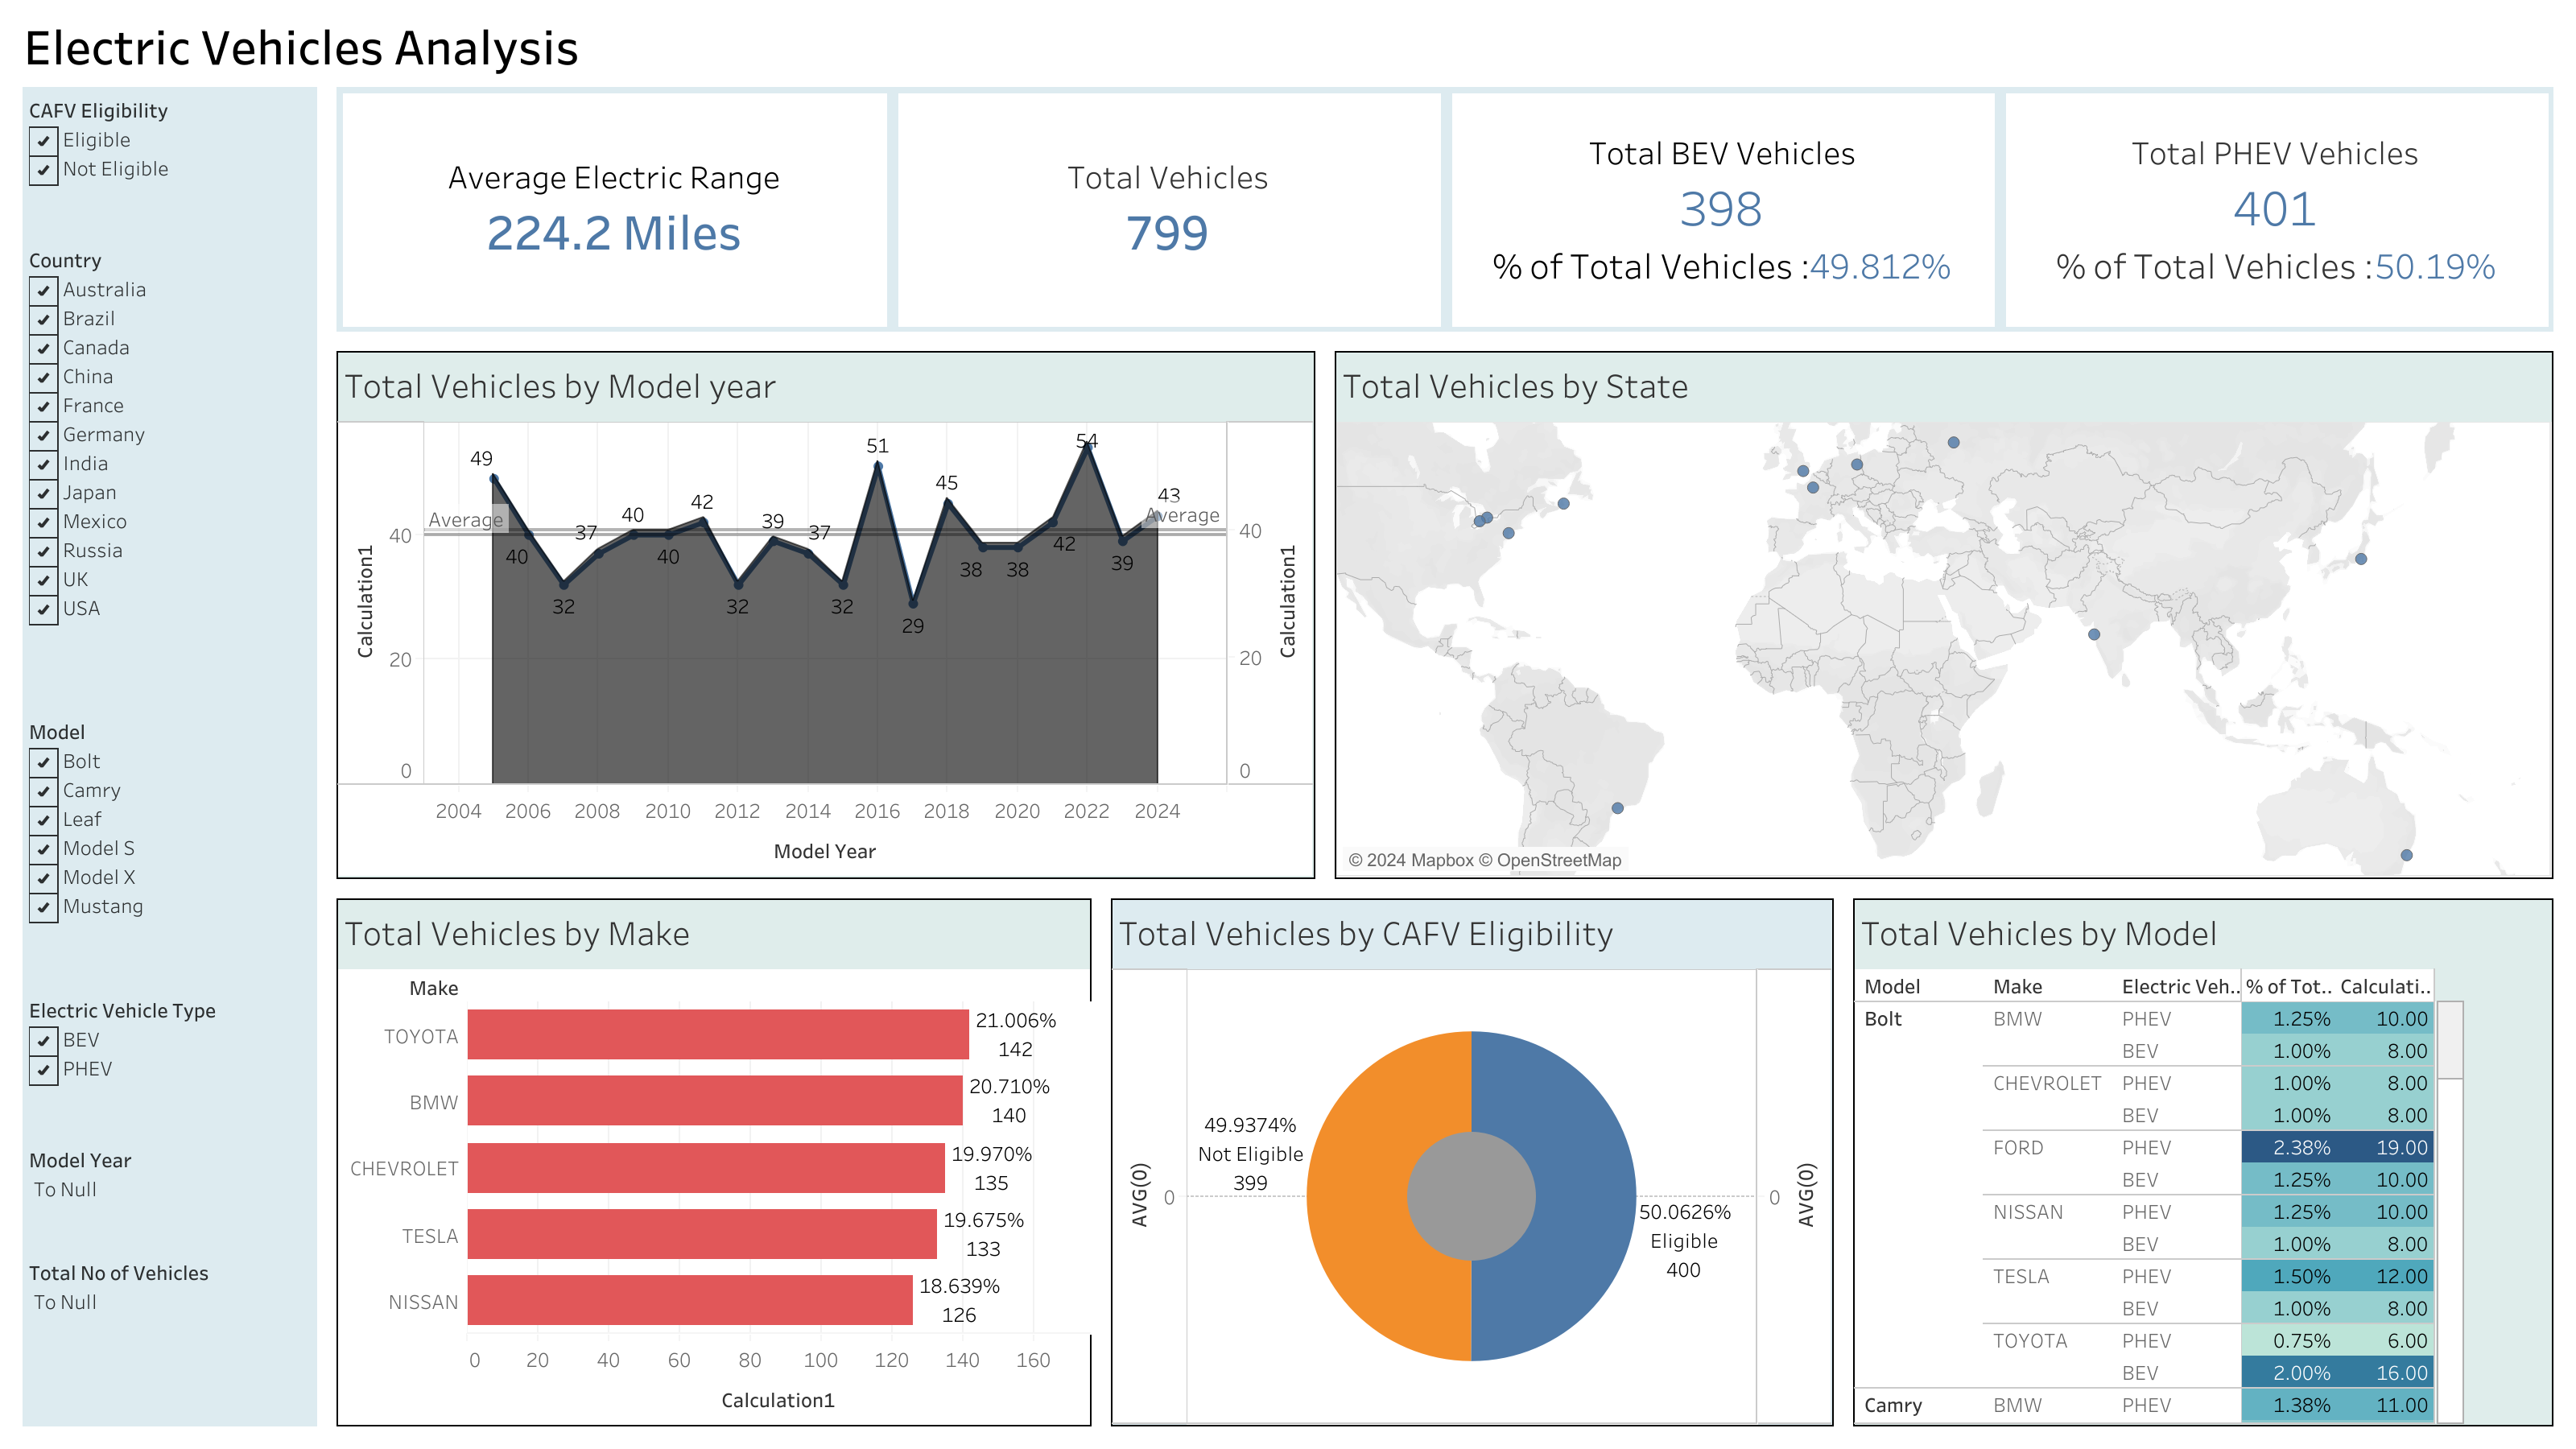

What the dashboard file says about the page in this screenshot:
{"tool":"tableau","page":{"name":"Dashboard 1","canvas":[1600,900],"ordinal":0},"visuals":[{"type":"title","box":[8,8,1584,40]},{"type":"filter","title":"Sheet 5","param":"[federated.185fgkx1a7k8gy130zgwh000ghmw].[none:CAFV Eligibility:nk]","box":[14,54,183,93]},{"type":"worksheet","title":"Sheet 2","mark":"Automatic","box":[209,54,345,152]},{"type":"worksheet","title":"Sheet 1","mark":"Automatic","box":[554,54,344,152]},{"type":"worksheet","title":"Sheet 3","mark":"Automatic","box":[898,54,344,152]},{"type":"worksheet","title":"Sheet 4","mark":"Automatic","box":[1242,54,344,152]},{"type":"filter","title":"Sheet 5","param":"[federated.185fgkx1a7k8gy130zgwh000ghmw].[none:Country:nk]","box":[14,147,183,293]},{"type":"worksheet","title":"Sheet 5","mark":"Line","rows":["Calculation_1055594298626049","Calculation_1055594298626049"],"cols":["Model Year"],"box":[203,212.2,620,339.9]},{"type":"worksheet","title":"Sheet 6","mark":"Multipolygon","box":[823,212.2,769,339.9]},{"type":"filter","title":"Sheet 5","param":"[federated.185fgkx1a7k8gy130zgwh000ghmw].[none:Model:nk]","box":[14,440,183,173]},{"type":"worksheet","title":"Sheet 7","mark":"Automatic","rows":["Make"],"cols":["Calculation_1055594298626049"],"box":[203,552.1,480.7,339.9]},{"type":"worksheet","title":"Sheet 8","mark":"Pie","rows":["Calculation_1055594388242472","Calculation_1055594388271146"],"box":[683.7,552.1,461.5,339.9]},{"type":"worksheet","title":"Sheet 9","mark":"Square","rows":["Model","Make","Electric Vehicle Type"],"box":[1145.2,552.1,446.8,339.9]},{"type":"filter","title":"Sheet 5","param":"[federated.185fgkx1a7k8gy130zgwh000ghmw].[none:Electric Vehicle Type:nk]","box":[14,613,183,93]},{"type":"filter","title":"Sheet 5","param":"[federated.185fgkx1a7k8gy130zgwh000ghmw].[none:Model Year:qk]","box":[14,706,183,70]},{"type":"filter","title":"Sheet 5","param":"[federated.185fgkx1a7k8gy130zgwh000ghmw].[usr:Calculation_1055594298626049:qk]","box":[14,776,183,70]}]}

Visuals, with their boxes in screenshot pixels (x1, y1, x2, y2), scaled from the page's 1600x900 canvas onto the 2576x1449 screenshot:
title: 13, 13, 2563, 77
"Sheet 5" filter: 23, 87, 317, 237
"Sheet 2" worksheet: 336, 87, 892, 332
"Sheet 1" worksheet: 892, 87, 1446, 332
"Sheet 3" worksheet: 1446, 87, 2000, 332
"Sheet 4" worksheet: 2000, 87, 2553, 332
"Sheet 5" filter: 23, 237, 317, 708
"Sheet 5" worksheet (Line marks): 327, 341, 1325, 889
"Sheet 6" worksheet (Multipolygon marks): 1325, 341, 2563, 889
"Sheet 5" filter: 23, 708, 317, 987
"Sheet 7" worksheet: 327, 889, 1100, 1436
"Sheet 8" worksheet (Pie marks): 1100, 889, 1843, 1436
"Sheet 9" worksheet (Square marks): 1843, 889, 2563, 1436
"Sheet 5" filter: 23, 987, 317, 1137
"Sheet 5" filter: 23, 1137, 317, 1249
"Sheet 5" filter: 23, 1249, 317, 1362
